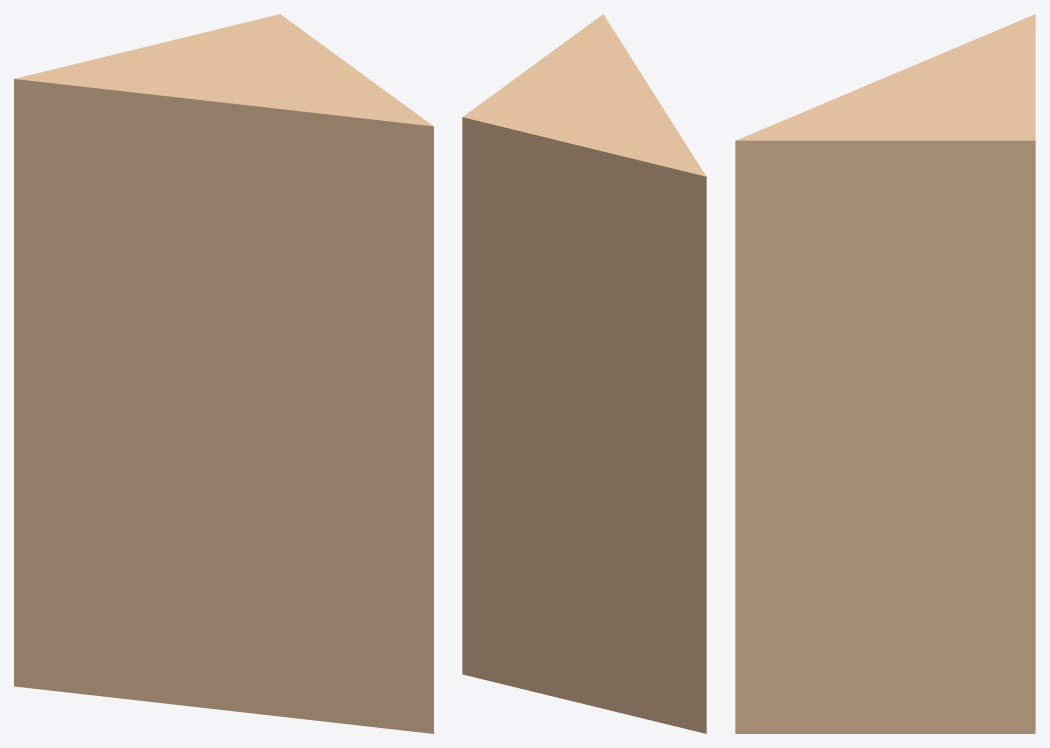
The model's file is cliffBrown_cornerMid.glb.
3 renders of one model, left to right at view 1: azimuth 30°, elevation 25°; view 2: azimuth 150°, elevation 25°; view 3: azimuth 270°, elevation 25°, orthographic. The views are drawn at different scales.
Parts seen in each view (by area): view 1: cliffBrown_cornerMid; view 2: cliffBrown_cornerMid; view 3: cliffBrown_cornerMid.
Part boxes in pixels (x1,y1,x2,y2): cliffBrown_cornerMid: (14, 14, 433, 733); cliffBrown_cornerMid: (462, 14, 706, 733); cliffBrown_cornerMid: (735, 14, 1035, 733).
Bounding box in the file's own units: 0.4584 × 1 × 0.4584.
